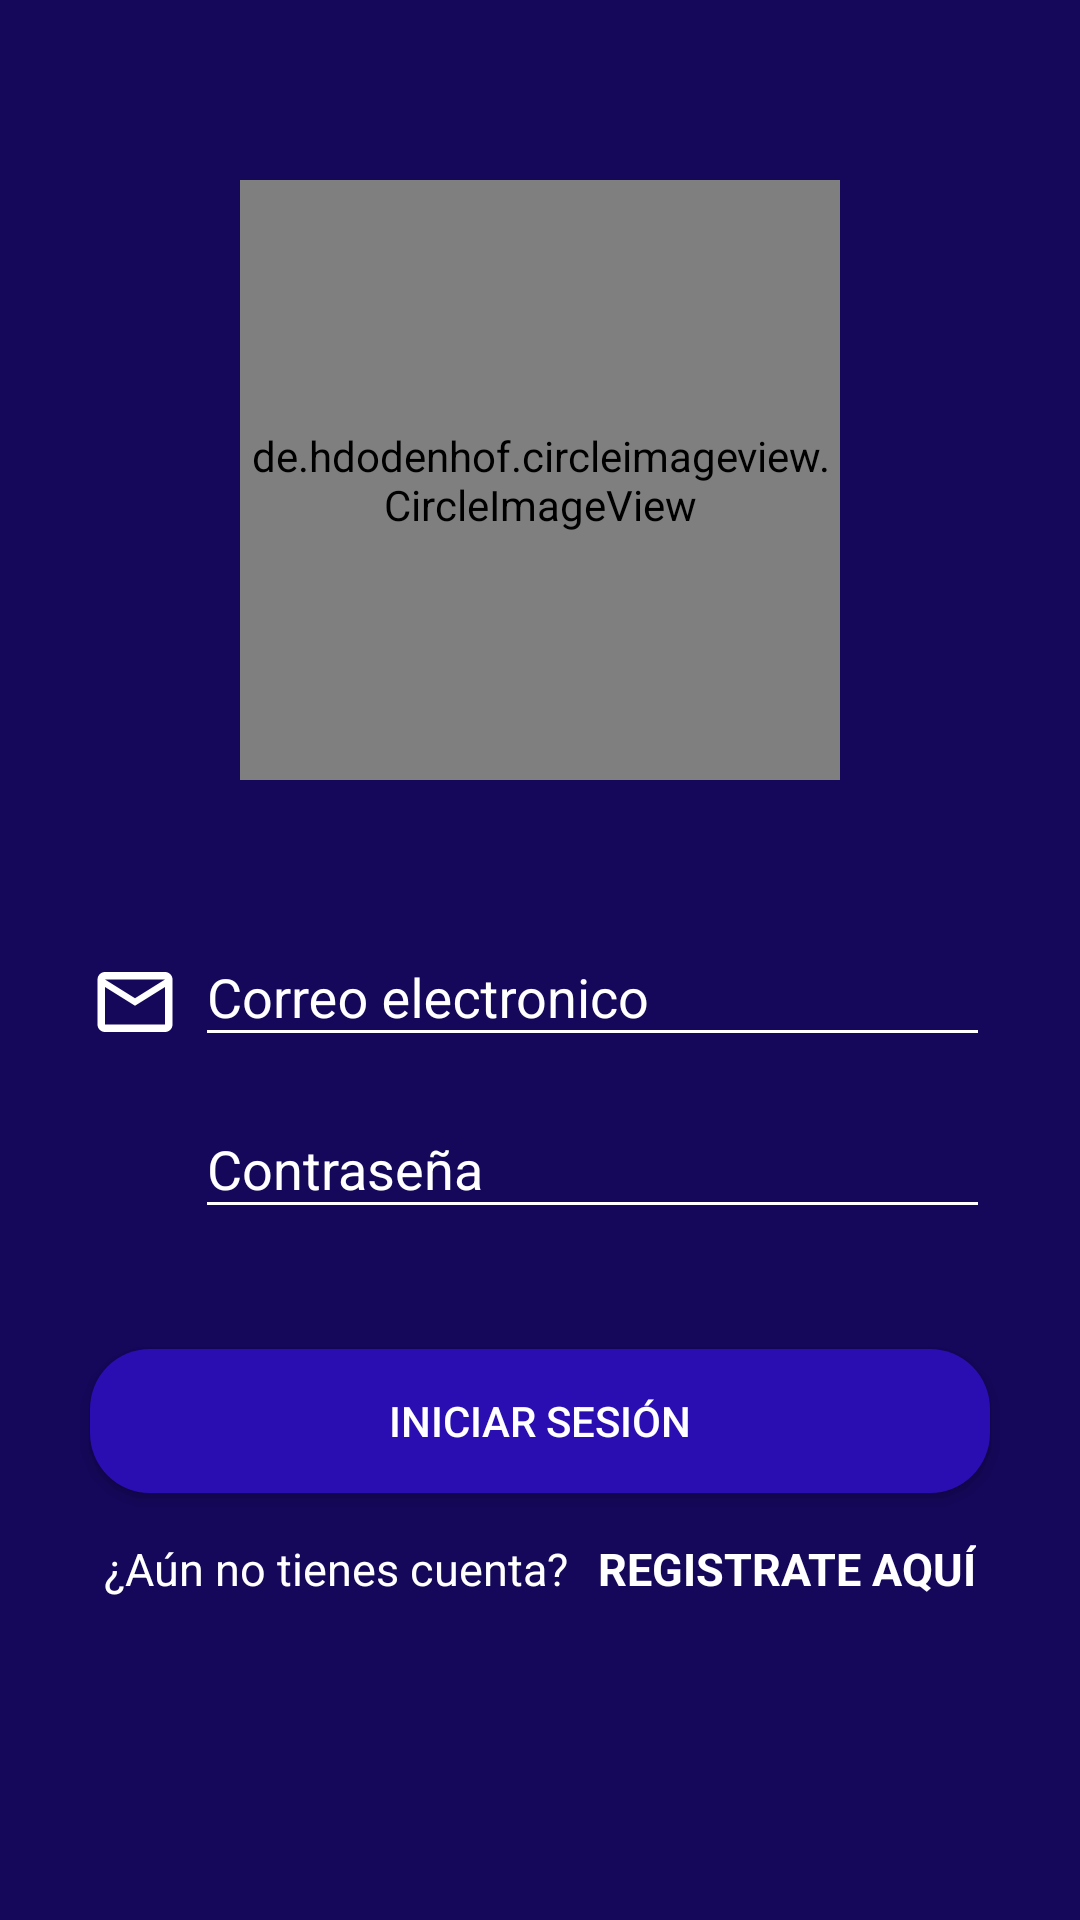

Screen size 1080w x 1920h. Icon name, then its center in pixels as [x,y]:
mail: [135,1002]
